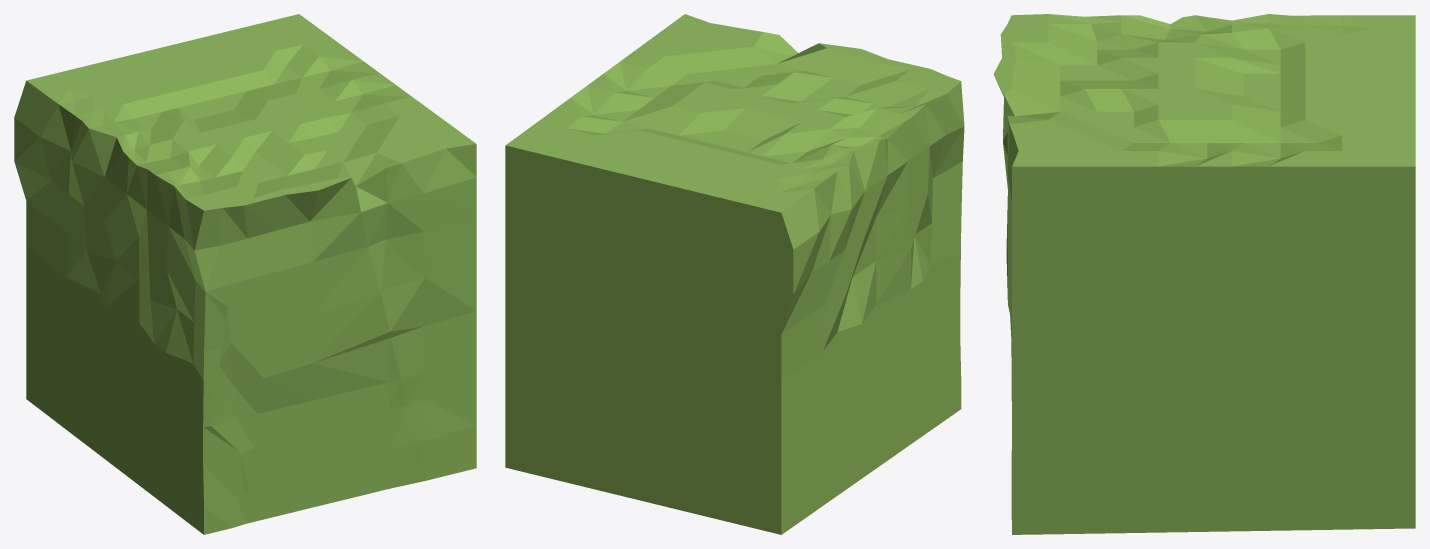
The model's file is Map1_Block2.fbx.
The picture shows the model from 3 angles, left to right: view 1: azimuth 30°, elevation 25°; view 2: azimuth 150°, elevation 25°; view 3: azimuth 270°, elevation 25°; orthographic projection. The views are drawn at different scales.
Visible parts, largest first — view 1: Cube_Block_2; view 2: Cube_Block_2; view 3: Cube_Block_2.
Boxes of the visible parts, left/top/right/bottom form: Cube_Block_2: left=14, top=14, right=476, bottom=534; Cube_Block_2: left=505, top=14, right=964, bottom=534; Cube_Block_2: left=993, top=14, right=1415, bottom=534.
Size of the model in its own units: 8647 by 7653 by 8330.
